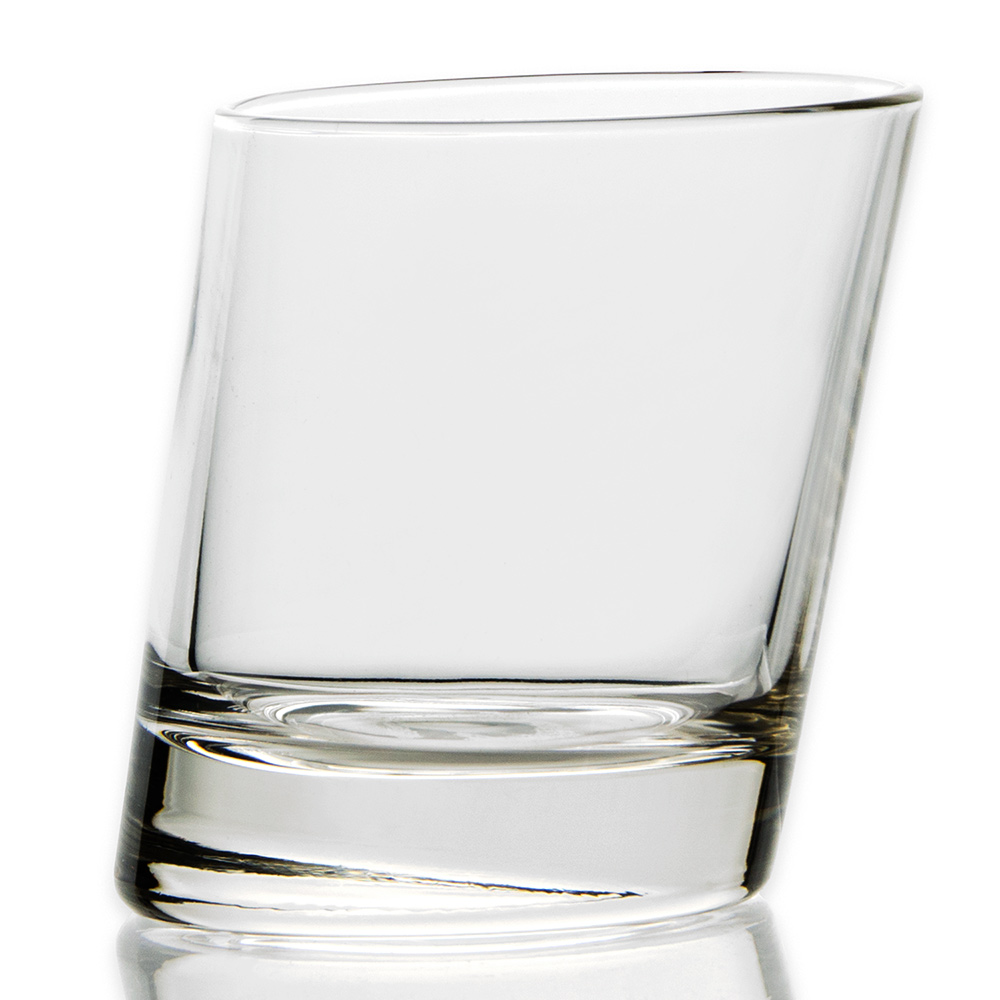glass of water: (176, 72, 863, 935)
